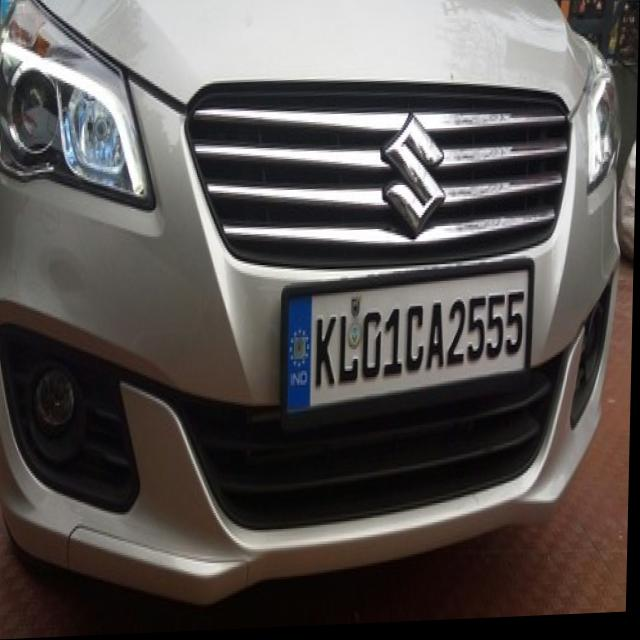licence: (281, 278, 530, 401)
